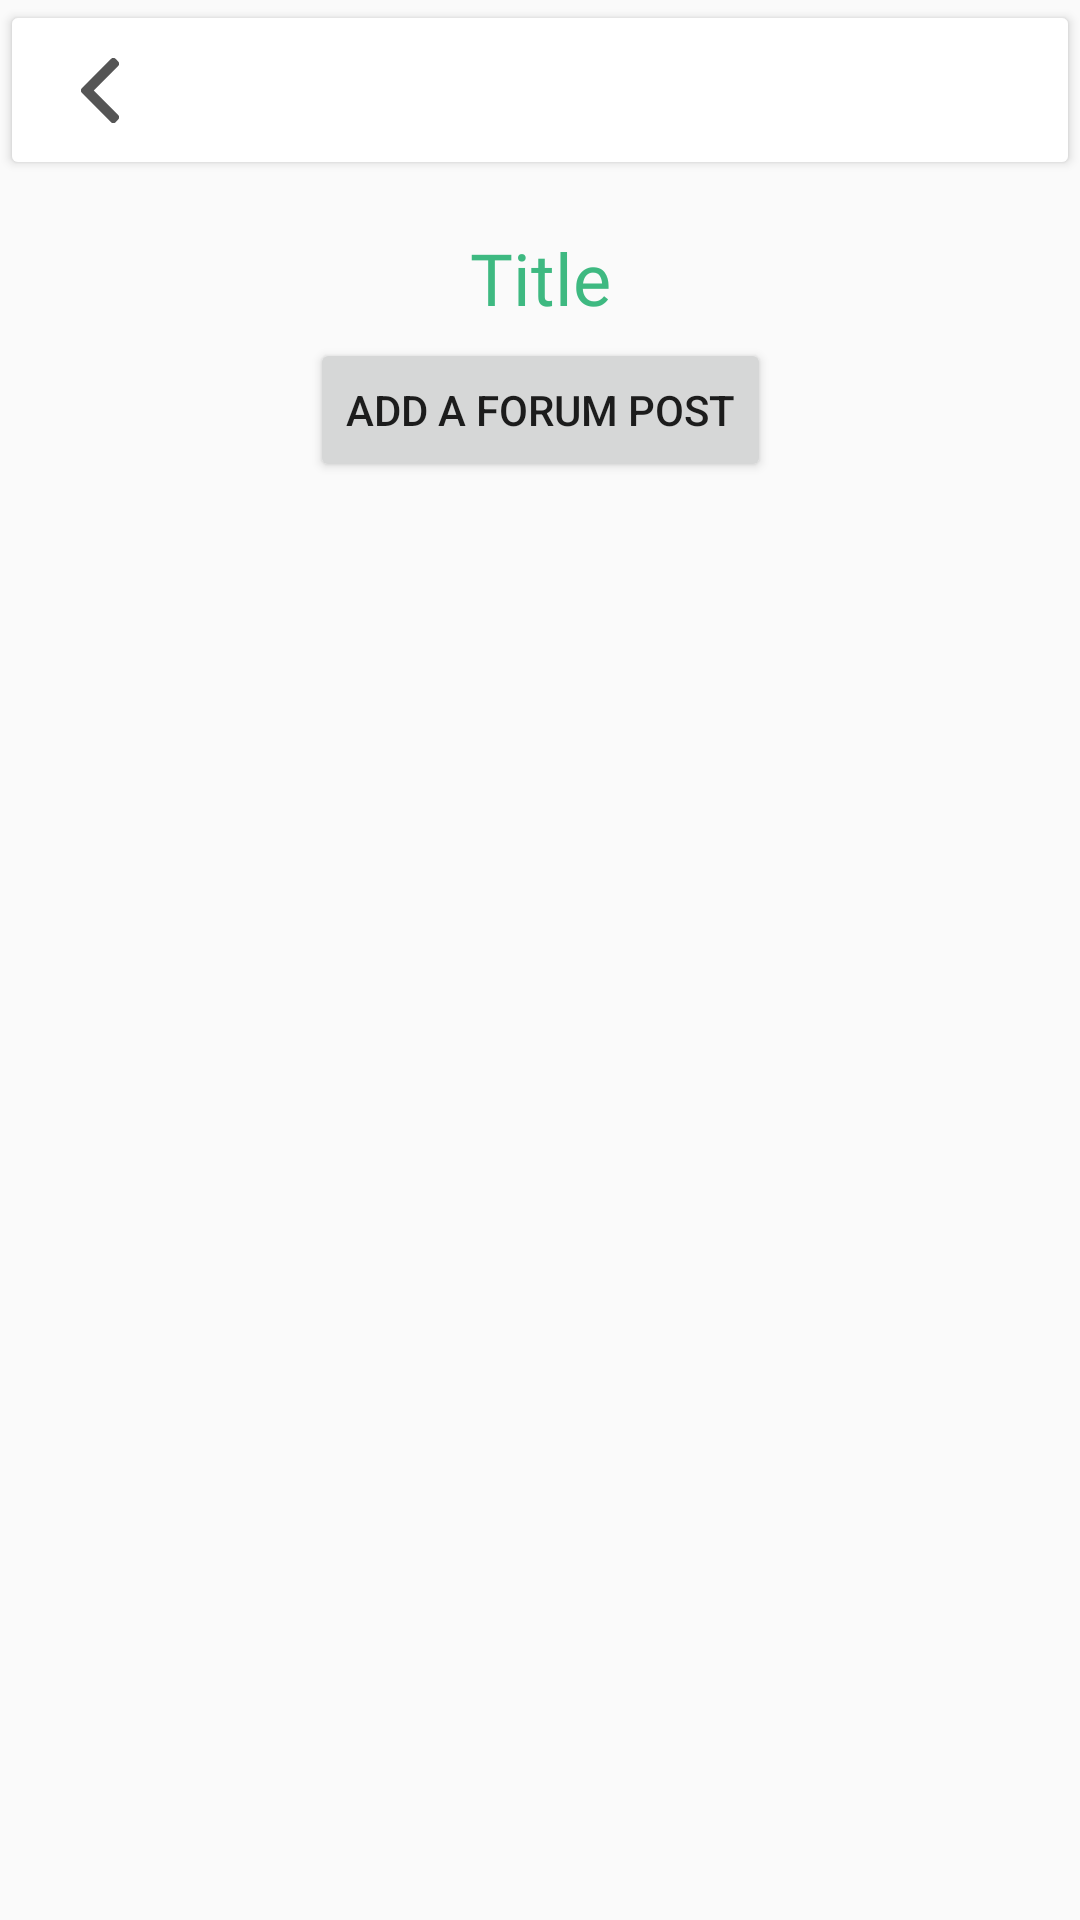

Locate icon controls on the screen. Image size 1080×1920, boxes as (x1, y1, x2, y2).
left arrow: (81, 58, 119, 123)
